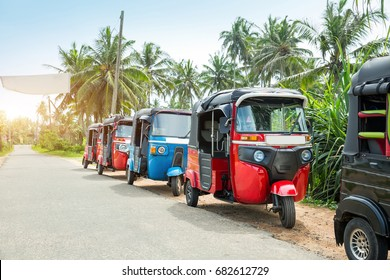threewheel: (182, 86, 313, 229), (334, 56, 390, 260), (126, 107, 193, 196), (96, 116, 134, 175), (82, 122, 101, 169)
